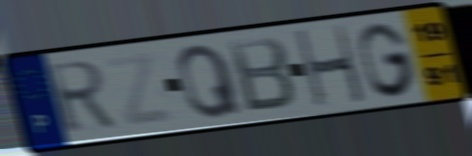B: (225, 34, 299, 115)
G: (356, 20, 419, 100)
H: (291, 22, 369, 110)
Q: (174, 41, 246, 122)
R: (44, 58, 120, 137)
Z: (101, 49, 178, 130)
